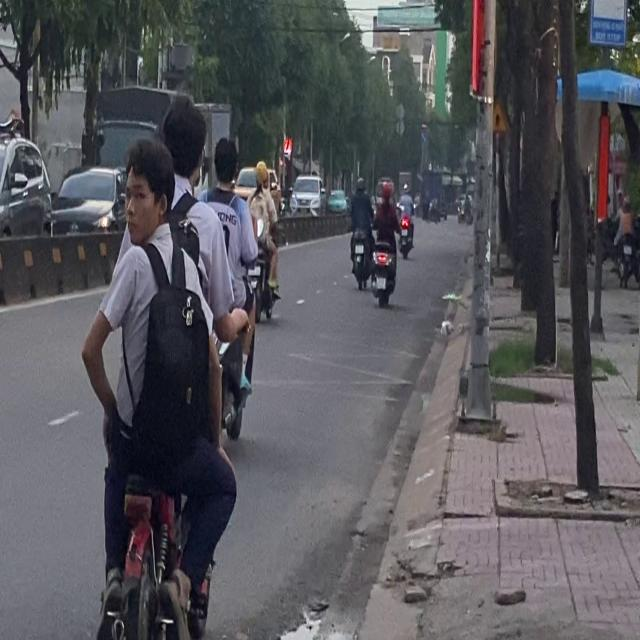licenseplate: (85, 80, 244, 640)
motorcyclist: (122, 134, 174, 243), (160, 93, 209, 186)
